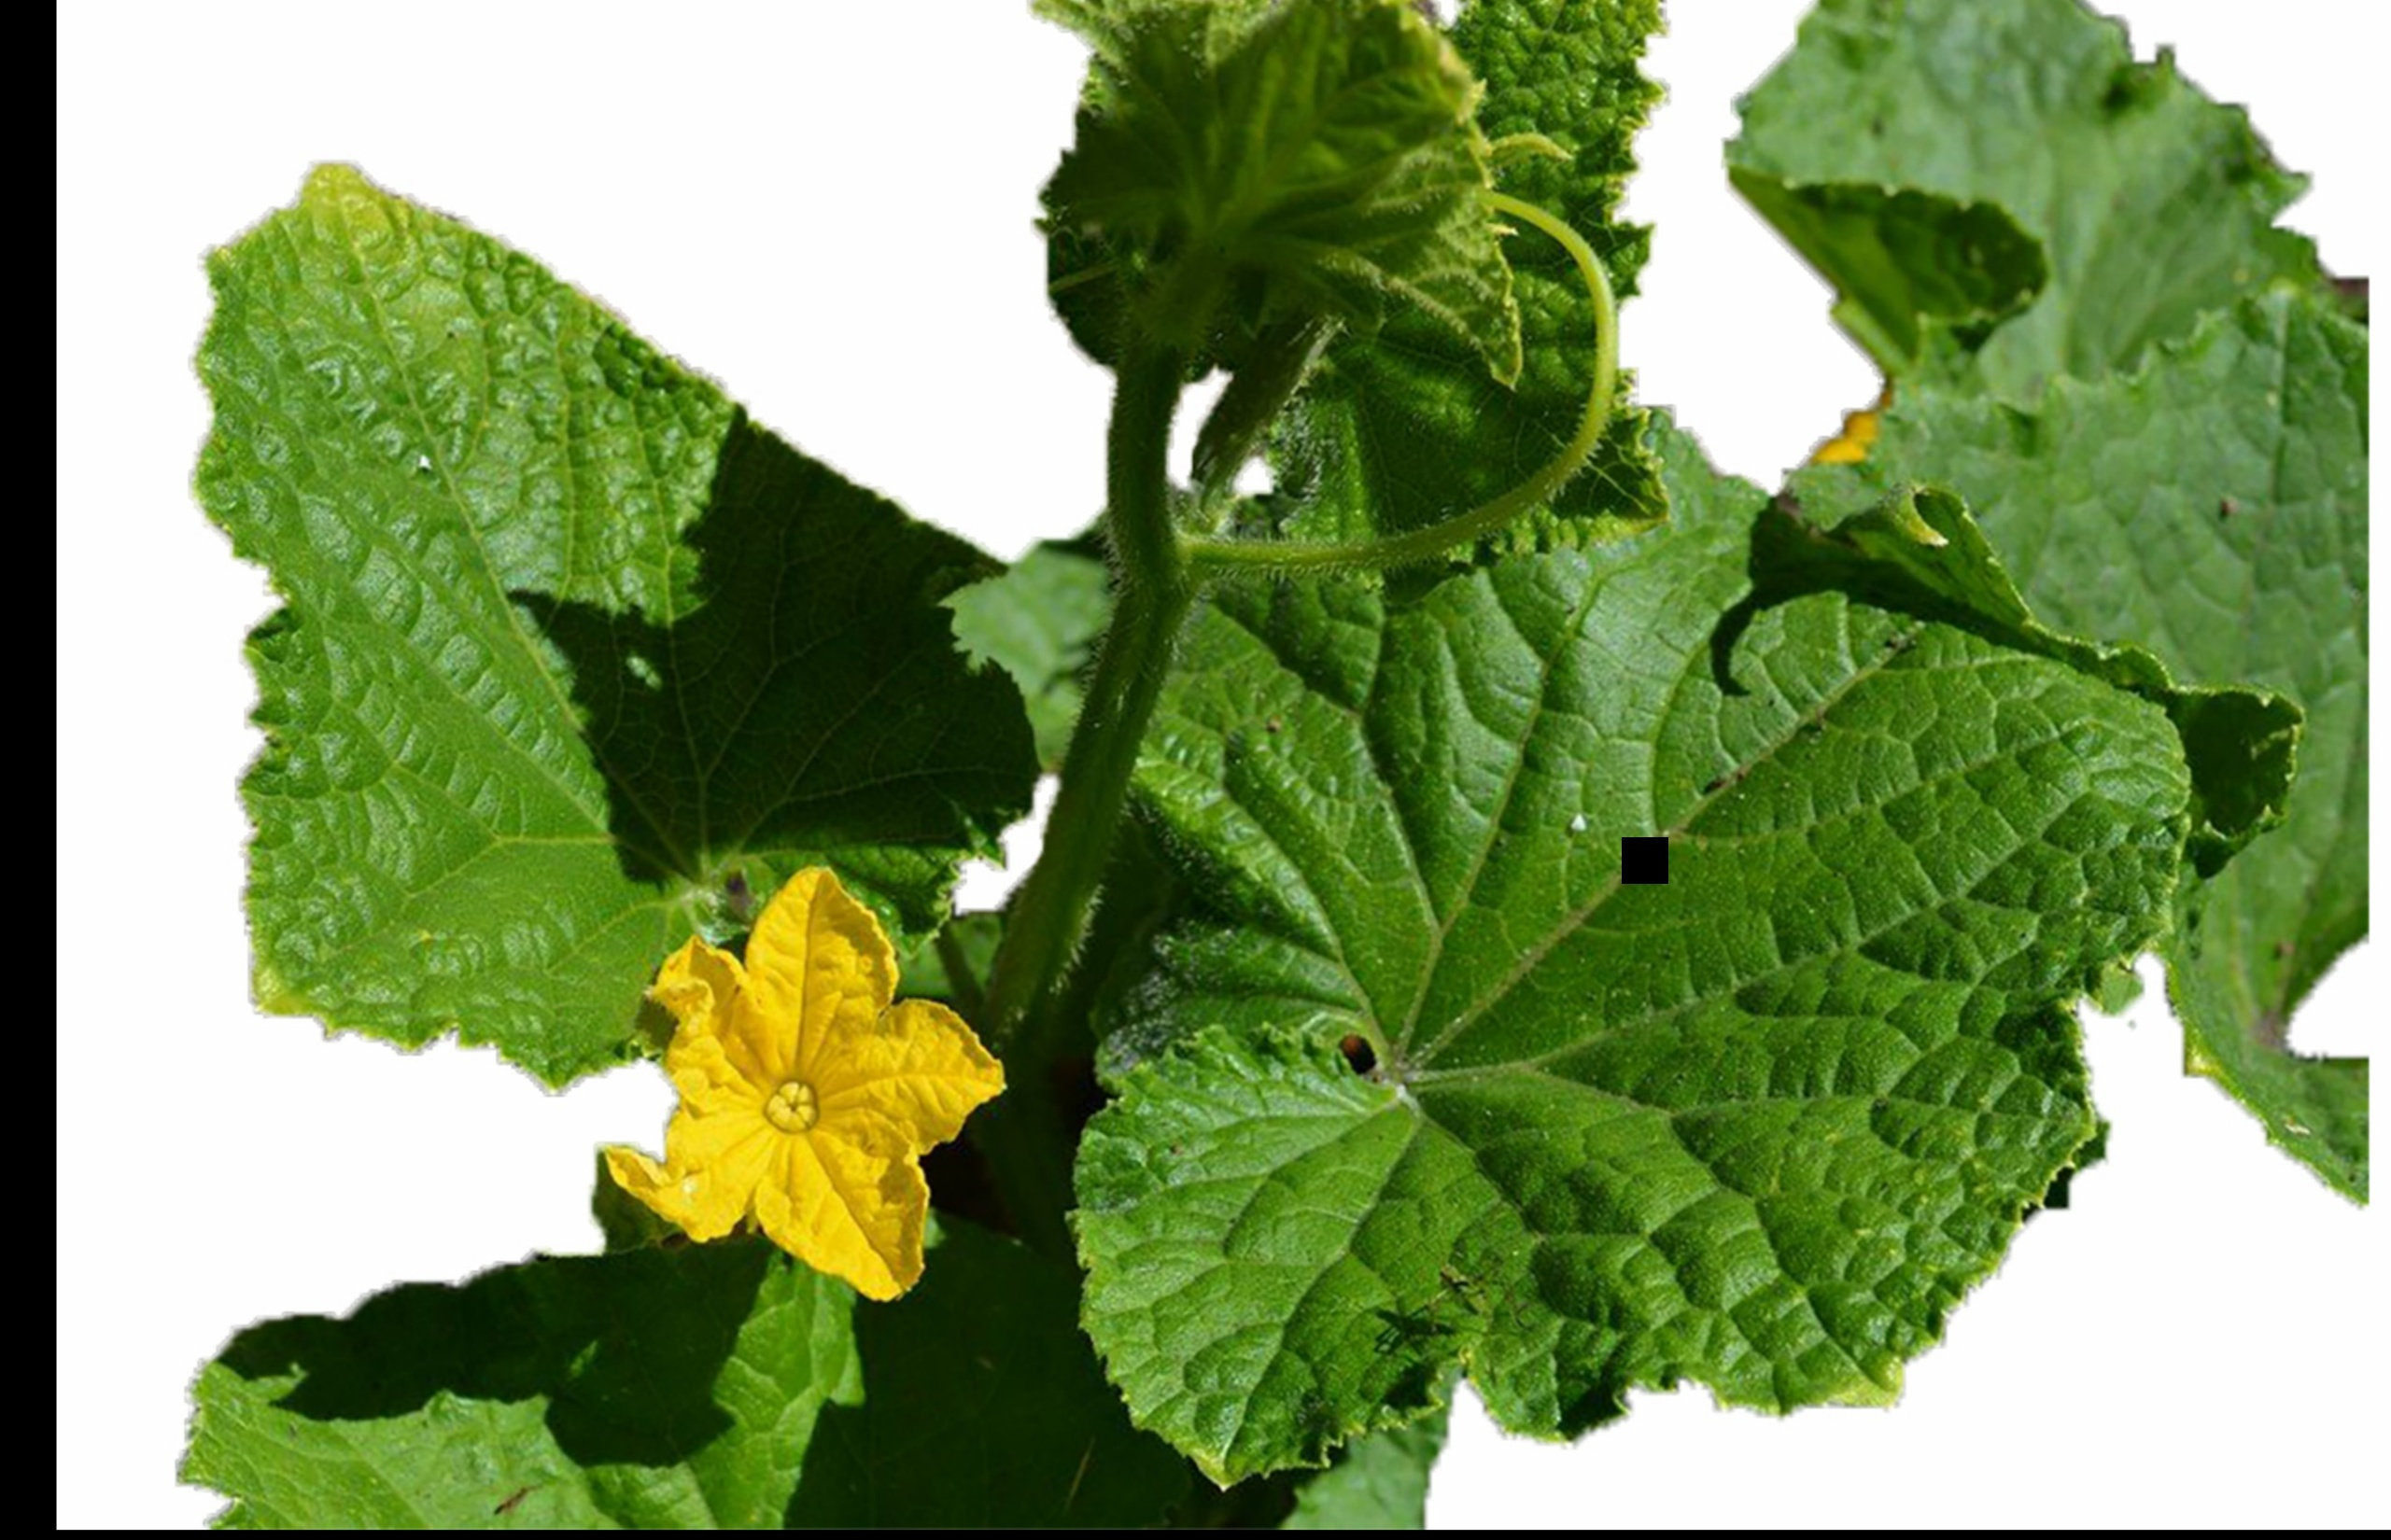cucumber_plant: (186, 155, 2212, 1530)
